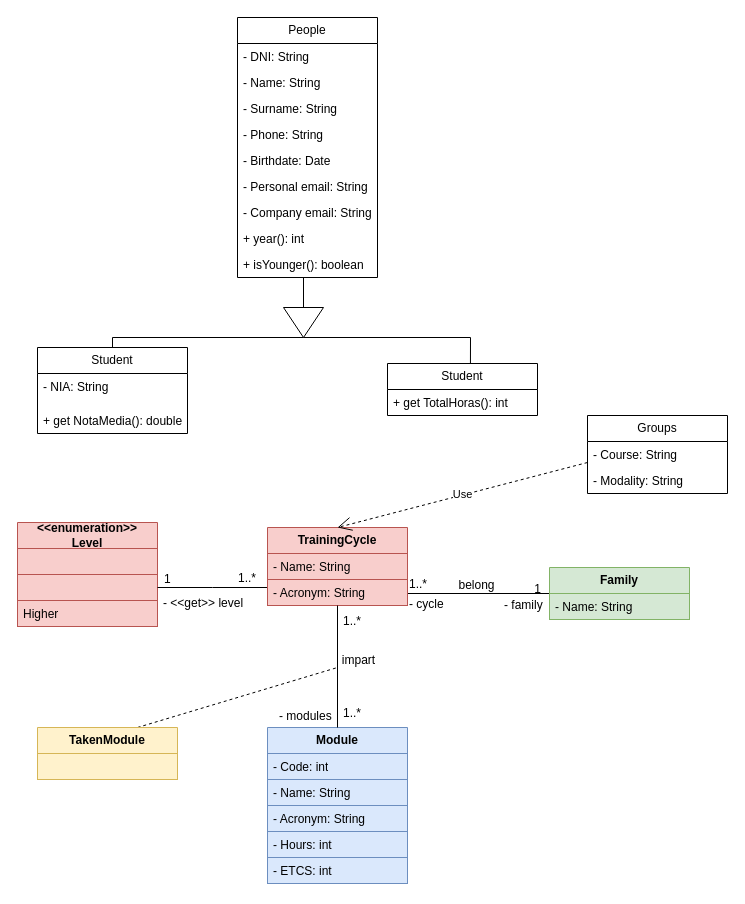
This 745x904 diagram has some shape labels left out. The centre of each missing label's shape, as x and y in pixels:
"- Course: int" goes at [107,766].
"Basic" goes at [87,561].
"Medium" goes at [87,587].
